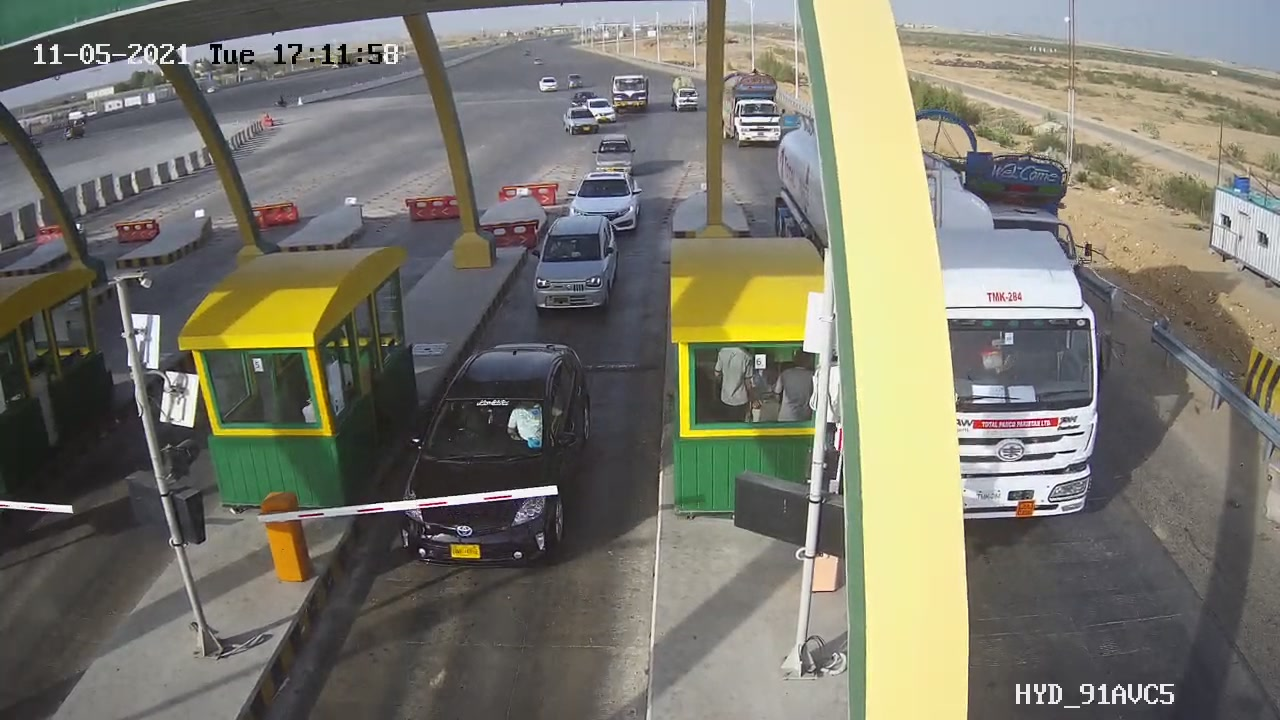F1: (382, 322, 611, 585), (508, 198, 637, 326)
